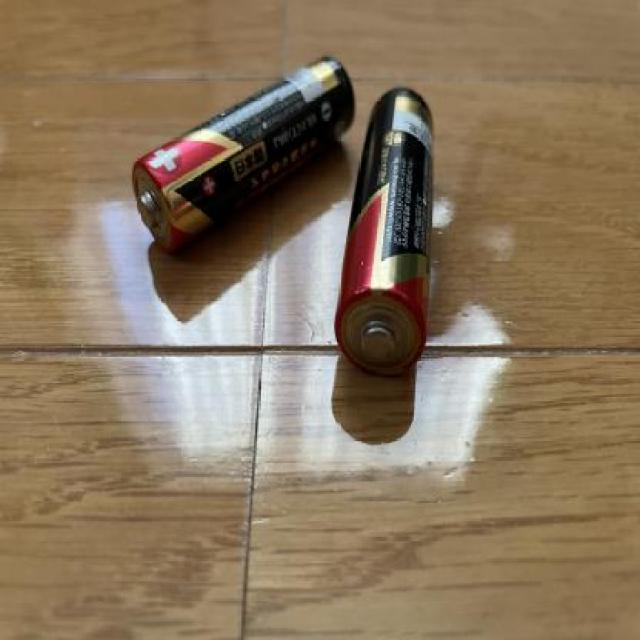AA: (129, 54, 354, 259), (330, 82, 444, 383)
